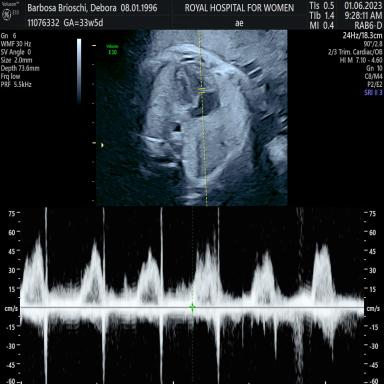Ultrasound-Waves: (25, 207, 361, 383)
